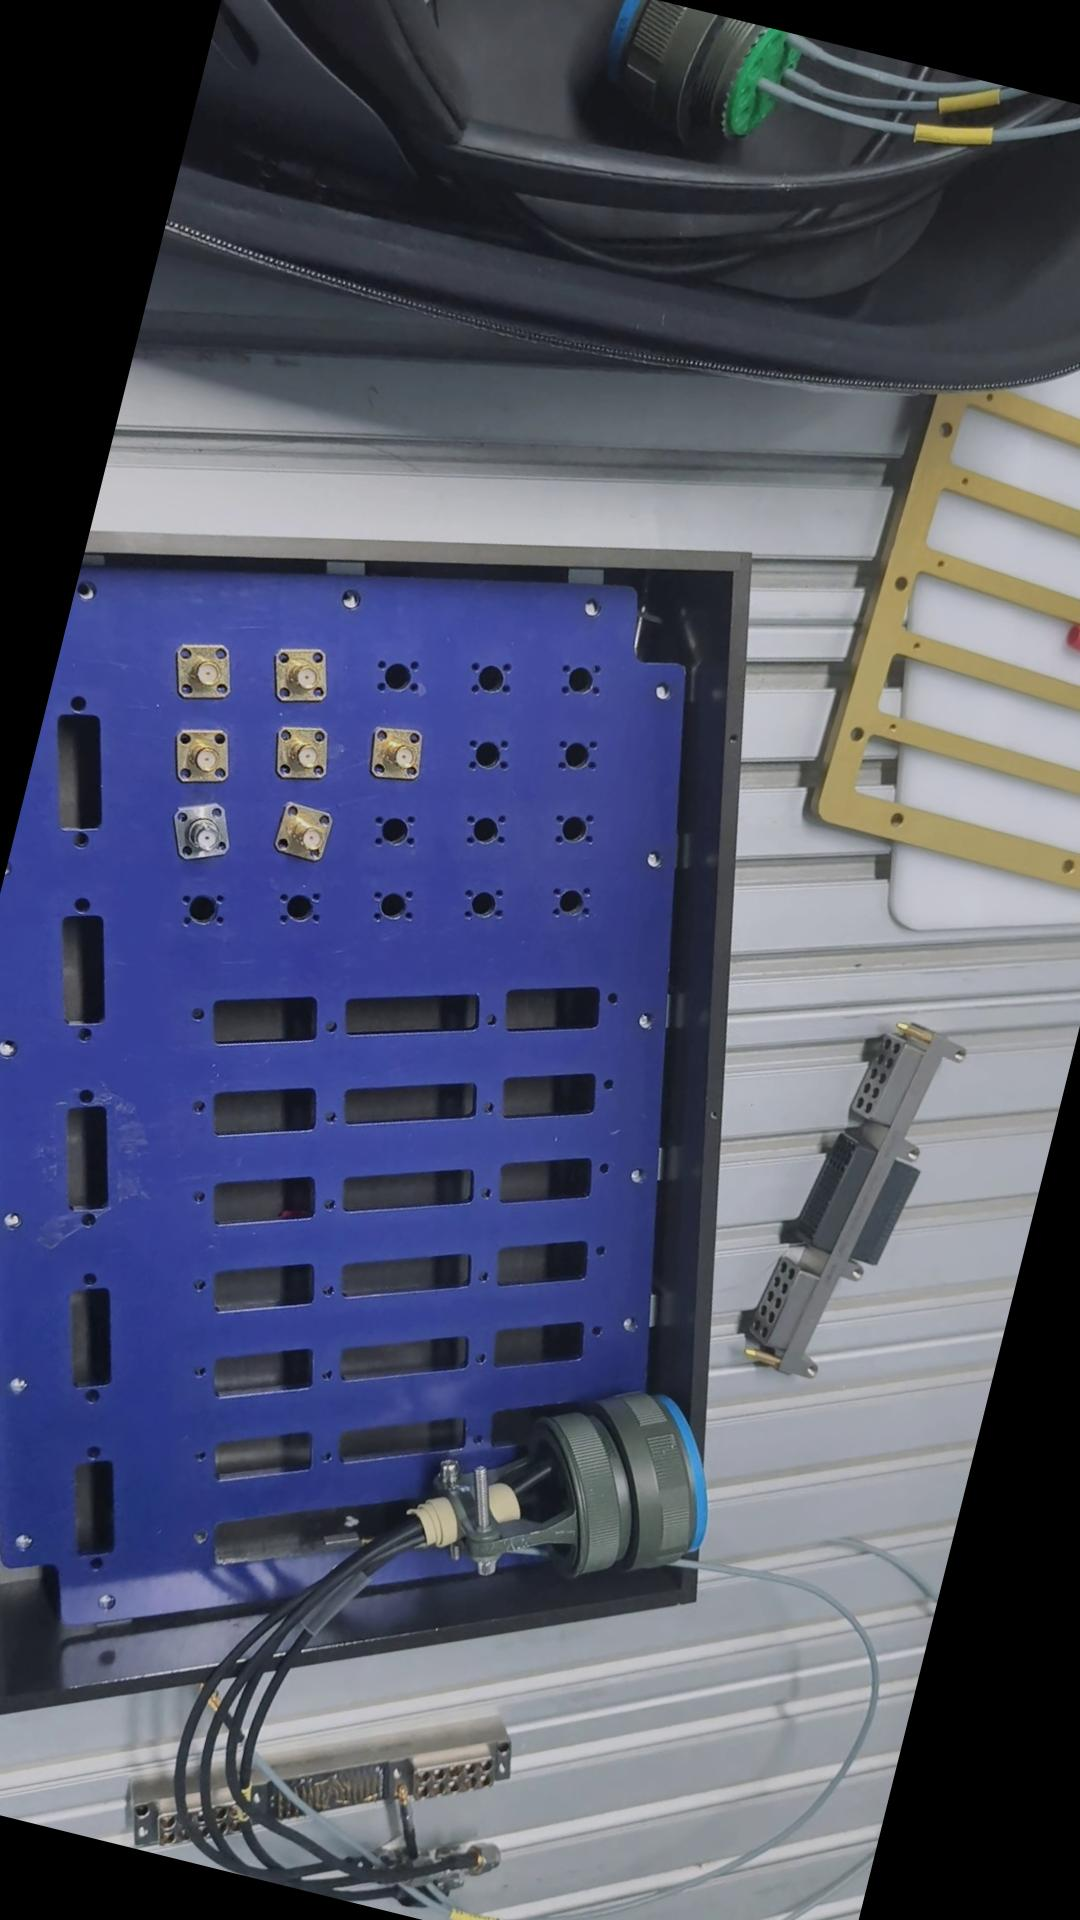SMA: (262, 640, 344, 713), (166, 634, 247, 708), (270, 795, 347, 872), (167, 724, 241, 796), (363, 717, 438, 787), (170, 795, 240, 865), (272, 721, 339, 789)
